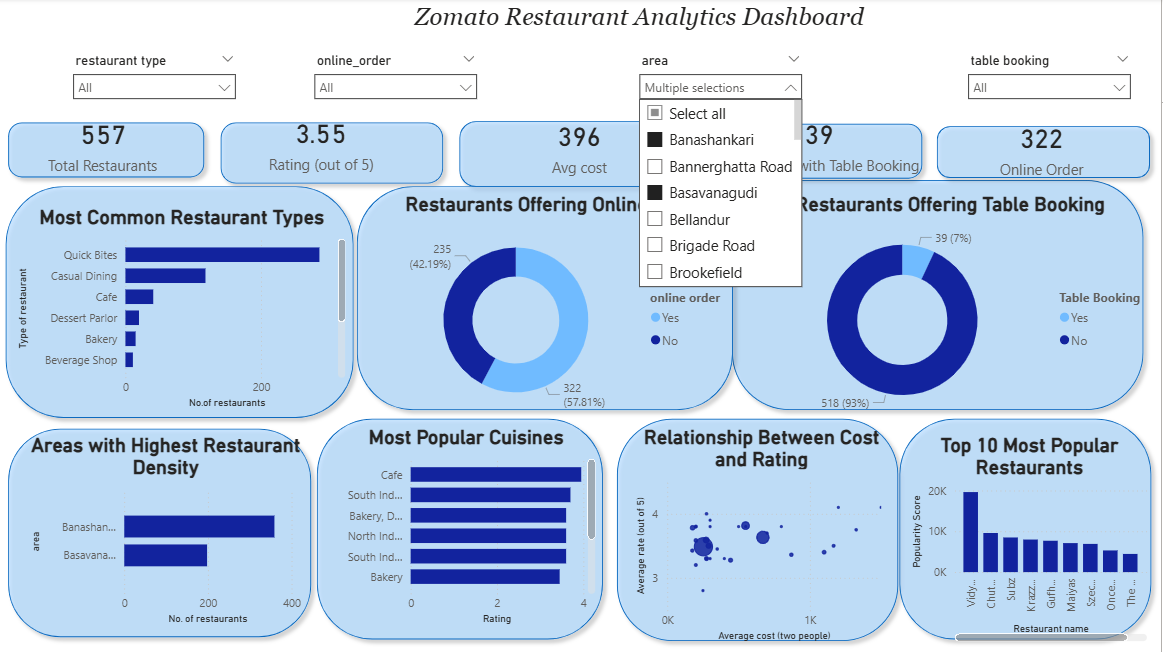

The dashboard page shown, as its layout file describes it:
{"tool":"powerbi","page":{"name":"Zomato Analytics Dashboard","canvas":[1280,720],"ordinal":0},"visuals":[{"type":"group","id":"g1","title":"Group 1","box":[3.4,126.5,1275.9,588.3],"z":1000},{"type":"barChart","title":"Most Common Restaurant Types","fields":{"Y":["CountNonNull(cleaned_zomato.restaurant name)"],"Category":["cleaned_zomato.restaurant type"]},"box":[20,228.1,369.2,228.1],"z":4000},{"type":"donutChart","title":"Restaurants Offering Online Orders","fields":{"Category":["cleaned_zomato.online_order"],"Y":["CountNonNull(cleaned_zomato.restaurant name)"]},"box":[420.5,213.8,399.1,255.1],"z":5000},{"type":"donutChart","title":"Restaurants Offering Table Booking","fields":{"Category":["cleaned_zomato.table booking"],"Y":["CountNonNull(cleaned_zomato.restaurant name)"]},"box":[819.6,213.8,459,255.1],"z":7000},{"type":"barChart","title":"Areas with Highest Restaurant Density","fields":{"Category":["cleaned_zomato.area"],"Y":["CountNonNull(cleaned_zomato.restaurant name)"]},"box":[34.2,478.9,306.5,213.8],"z":9000},{"type":"shape","box":[800,190.6,469.8,270.6],"z":10000,"group":"g1"},{"type":"barChart","title":"Most Popular Cuisines","fields":{"Y":["Median(cleaned_zomato.rate (out of 5))"],"Category":["cleaned_zomato.cuisines type"]},"box":[370.6,469,293.6,223.8],"z":10000},{"type":"shape","box":[6.8,464.5,350.6,246.8],"z":10500,"group":"g1"},{"type":"shape","box":[1025.7,131.6,251.9,74.9],"z":11000,"group":"g1"},{"type":"scatterChart","title":"Relationship Between Cost and Rating","fields":{"X":["Avg(cleaned_zomato.avg cost (two people))"],"Category":["cleaned_zomato.restaurant type","cleaned_zomato.restaurant name"],"Y":["Avg(cleaned_zomato.rate (out of 5))"],"Size":["CountNonNull(cleaned_zomato.num of ratings)"]},"box":[698.4,469,286.5,242.3],"z":11000},{"type":"shape","box":[6.8,127.6,233.2,78.3],"z":12000,"group":"g1"},{"type":"clusteredColumnChart","title":"Top 10 Most Popular Restaurants","fields":{"Category":["cleaned_zomato.restaurant name"],"Y":["cleaned_zomato.Popularity Score Measure"]},"box":[1002,478.9,268,232.3],"z":12000},{"type":"textbox","box":[449.4,0,517.4,69.8],"z":13000},{"type":"shape","box":[784.7,129.3,243.4,78.3],"z":13000,"group":"g1"},{"type":"slicer","fields":{"Values":["cleaned_zomato.area"]},"box":[697.1,54.9,199,76.8],"z":14000},{"type":"shape","box":[240,127.6,262.1,85.1],"z":14000,"group":"g1"},{"type":"shape","box":[3.4,197.3,400,272.3],"z":14500,"group":"g1"},{"type":"slicer","fields":{"Values":["cleaned_zomato.table booking"]},"box":[1058,54.9,199,76.8],"z":15000},{"type":"shape","box":[501.4,126.5,270.6,90.2],"z":15000,"group":"g1"},{"type":"shape","box":[675.1,452.7,326.8,262.1],"z":15250,"group":"g1"},{"type":"shape","box":[344.8,452.7,331.9,260.4],"z":15500,"group":"g1"},{"type":"shape","box":[984.8,452.7,294.5,260.4],"z":15750,"group":"g1"},{"type":"slicer","fields":{"Values":["cleaned_zomato.online_order"]},"box":[340.3,54.9,199,76.8],"z":16000},{"type":"shape","box":[389.1,197.3,430.6,263.8],"z":16000,"group":"g1"},{"type":"card","fields":{"Values":["Count(cleaned_zomato.restaurant name)"]},"box":[1049.1,126.4,198.8,74.8],"z":17000},{"type":"card","fields":{"Values":["Count(cleaned_zomato.restaurant name)"]},"box":[785.3,116.6,240.5,84.7],"z":18000},{"type":"card","fields":{"Values":["Avg(cleaned_zomato.avg cost (two people))"]},"box":[498.2,116.6,287.1,89.6],"z":19000},{"type":"card","fields":{"Values":["CountNonNull(cleaned_zomato.restaurant name)"]},"box":[0,116.6,236.8,84.7],"z":20000},{"type":"card","fields":{"Values":["Avg(cleaned_zomato.rate (out of 5))"]},"box":[236.8,116.6,241.7,82.2],"z":21000},{"type":"slicer","fields":{"Values":["cleaned_zomato.restaurant type"]},"box":[75.5,54.9,199,76.8],"z":22000}]}

Visuals, with their boxes in screenshot pixels (x1, y1, x2, y2), scaled from the page's 1280x720 canvas onto the 1163x652 screenshot:
"Group 1" group: <region>3, 115, 1162, 647</region>
"Most Common Restaurant Types" barChart: <region>18, 207, 354, 413</region>
"Restaurants Offering Online Orders" donutChart: <region>382, 194, 745, 425</region>
"Restaurants Offering Table Booking" donutChart: <region>745, 194, 1162, 425</region>
"Areas with Highest Restaurant Density" barChart: <region>31, 434, 310, 627</region>
shape: <region>727, 173, 1154, 418</region>
"Most Popular Cuisines" barChart: <region>337, 425, 603, 627</region>
shape: <region>6, 421, 325, 644</region>
shape: <region>932, 119, 1161, 187</region>
"Relationship Between Cost and Rating" scatterChart: <region>635, 425, 895, 644</region>
shape: <region>6, 116, 218, 186</region>
"Top 10 Most Popular Restaurants" clusteredColumnChart: <region>910, 434, 1154, 644</region>
textbox: <region>408, 0, 878, 63</region>
shape: <region>713, 117, 934, 188</region>
slicer - cleaned_zomato.area: <region>633, 50, 814, 119</region>
shape: <region>218, 116, 456, 193</region>
shape: <region>3, 179, 367, 425</region>
slicer - cleaned_zomato.table booking: <region>961, 50, 1142, 119</region>
shape: <region>456, 115, 701, 196</region>
shape: <region>613, 410, 910, 647</region>
shape: <region>313, 410, 615, 646</region>
shape: <region>895, 410, 1162, 646</region>
slicer - cleaned_zomato.online_order: <region>309, 50, 490, 119</region>
shape: <region>354, 179, 745, 418</region>
card - Count(cleaned_zomato.restaurant name): <region>953, 114, 1134, 182</region>
card - Count(cleaned_zomato.restaurant name): <region>714, 106, 932, 182</region>
card - Avg(cleaned_zomato.avg cost (two people)): <region>453, 106, 714, 187</region>
card - CountNonNull(cleaned_zomato.restaurant name): <region>0, 106, 215, 182</region>
card - Avg(cleaned_zomato.rate (out of 5)): <region>215, 106, 435, 180</region>
slicer - cleaned_zomato.restaurant type: <region>69, 50, 249, 119</region>
